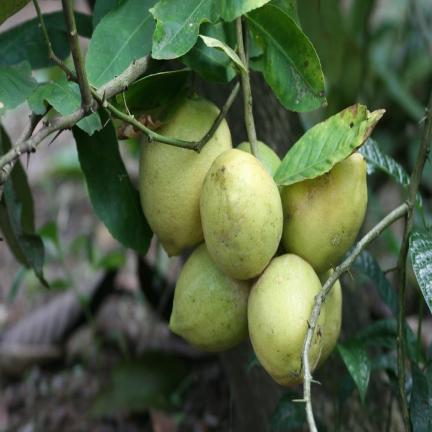lemon: (139, 121, 232, 256), (200, 149, 282, 279), (281, 154, 367, 273), (248, 254, 321, 386), (170, 243, 251, 351), (317, 279, 342, 367), (257, 141, 280, 176)
